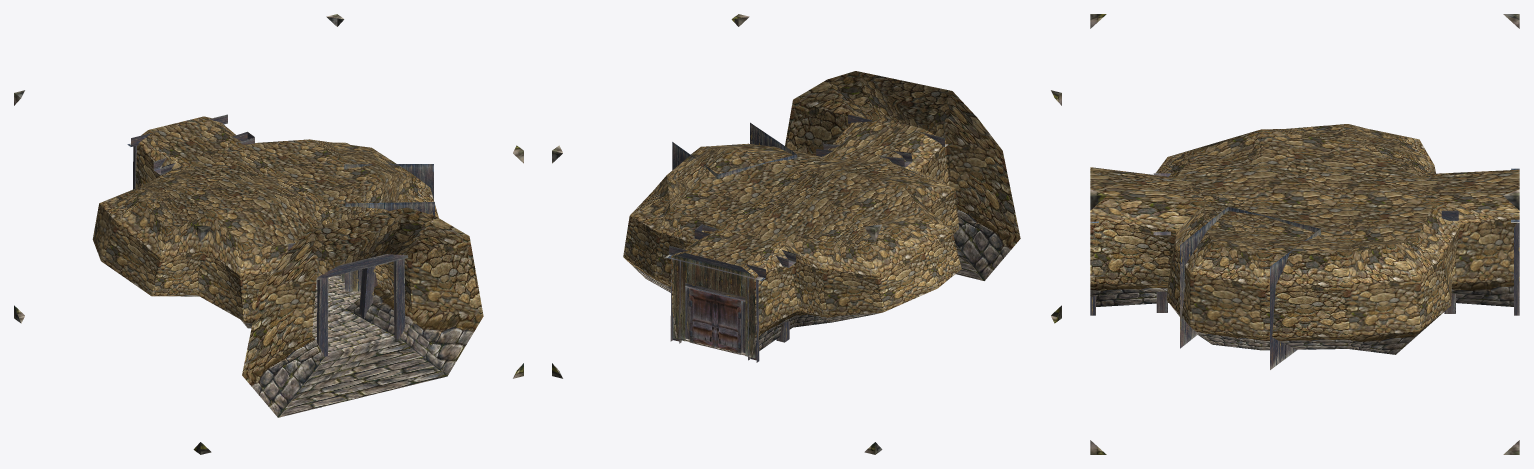
File: Lbm_1a.glb
3 views of the same model, side by side, from view 1: azimuth 30°, elevation 25°; view 2: azimuth 150°, elevation 25°; view 3: azimuth 270°, elevation 25° (orthographic). The views are drawn at different scales.
Parts seen in each view (by area): view 1: Lbm_1a; view 2: Lbm_1a; view 3: Lbm_1a.
Boxes of the visible parts, x1=… form: Lbm_1a: x1=14, y1=14, x2=523, y2=454; Lbm_1a: x1=552, y1=14, x2=1061, y2=454; Lbm_1a: x1=1090, y1=14, x2=1519, y2=454.
Size of the model in its own units: 15 by 10 by 15.
Materials: 8 (8 with a texture image).
